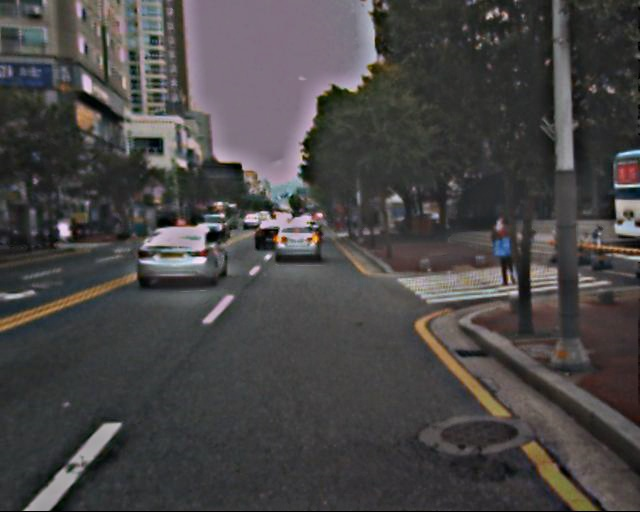person: (492, 218, 520, 287), (492, 215, 513, 267)
